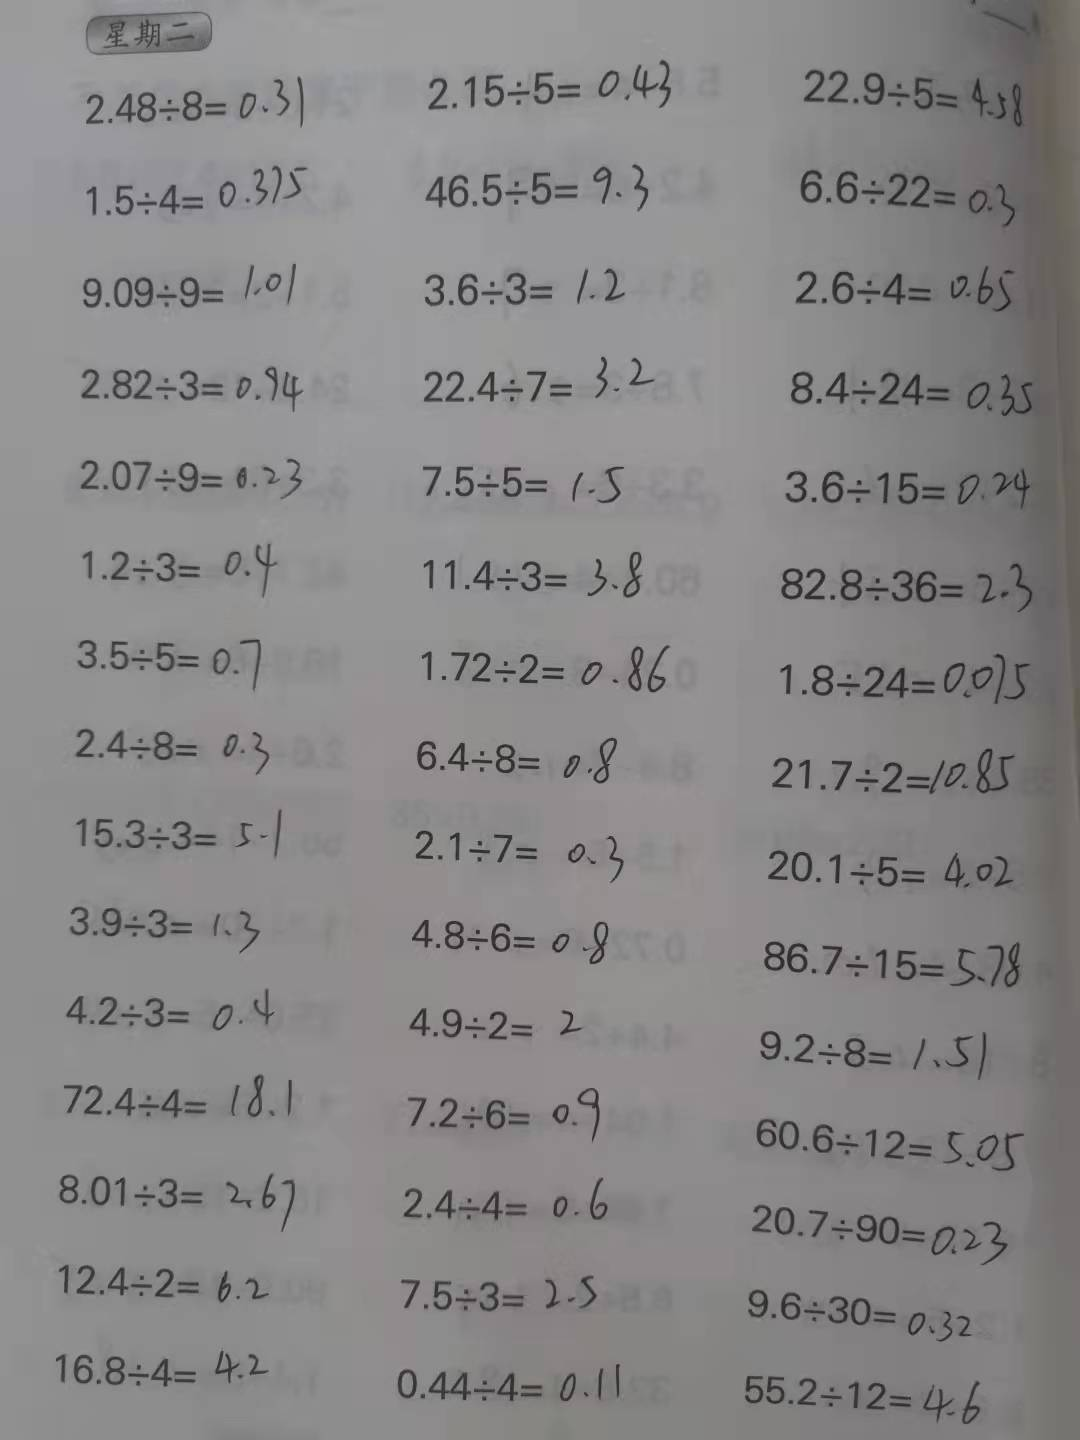equation: (746, 925, 1026, 1007), (737, 1188, 1015, 1269), (41, 1160, 305, 1243), (744, 1104, 1027, 1180), (778, 345, 1047, 422), (771, 551, 1043, 626), (405, 628, 675, 700), (791, 53, 1037, 132), (77, 243, 305, 327), (754, 740, 1031, 808), (53, 1064, 304, 1137), (75, 149, 317, 225), (398, 814, 632, 892), (732, 1284, 990, 1354), (77, 63, 315, 138), (424, 54, 683, 122), (61, 443, 331, 508), (781, 252, 1024, 322), (788, 159, 1019, 232), (68, 353, 313, 422), (765, 647, 1035, 710), (390, 1077, 610, 1152), (54, 882, 268, 958), (416, 159, 663, 225), (750, 1017, 1007, 1079), (773, 449, 1038, 509), (68, 795, 287, 867), (56, 713, 279, 783), (79, 528, 282, 605), (753, 837, 1014, 896), (389, 723, 623, 789), (49, 980, 286, 1044), (404, 252, 635, 317), (388, 1352, 641, 1411), (66, 622, 269, 695), (416, 543, 651, 605), (54, 1252, 280, 1316), (413, 449, 646, 510), (382, 1269, 610, 1331), (399, 907, 613, 971), (389, 1174, 618, 1233), (47, 1340, 280, 1395), (417, 354, 661, 405), (402, 994, 588, 1051)
